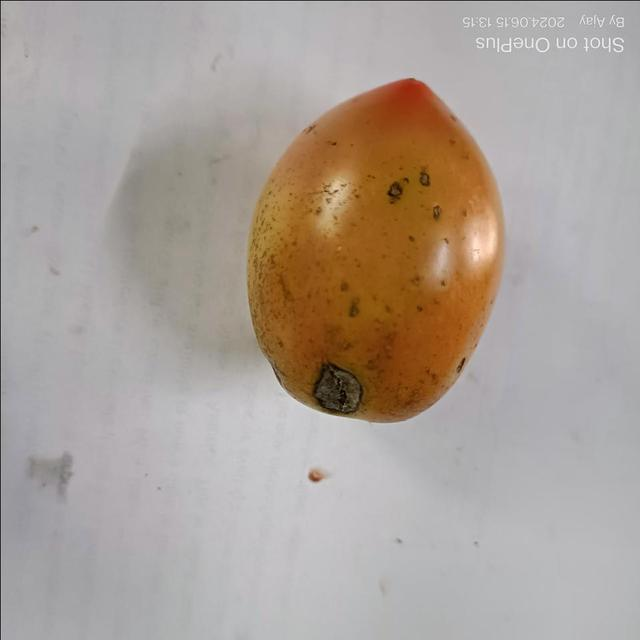Bacterial Spot Fruit: (12, 17, 283, 259)
